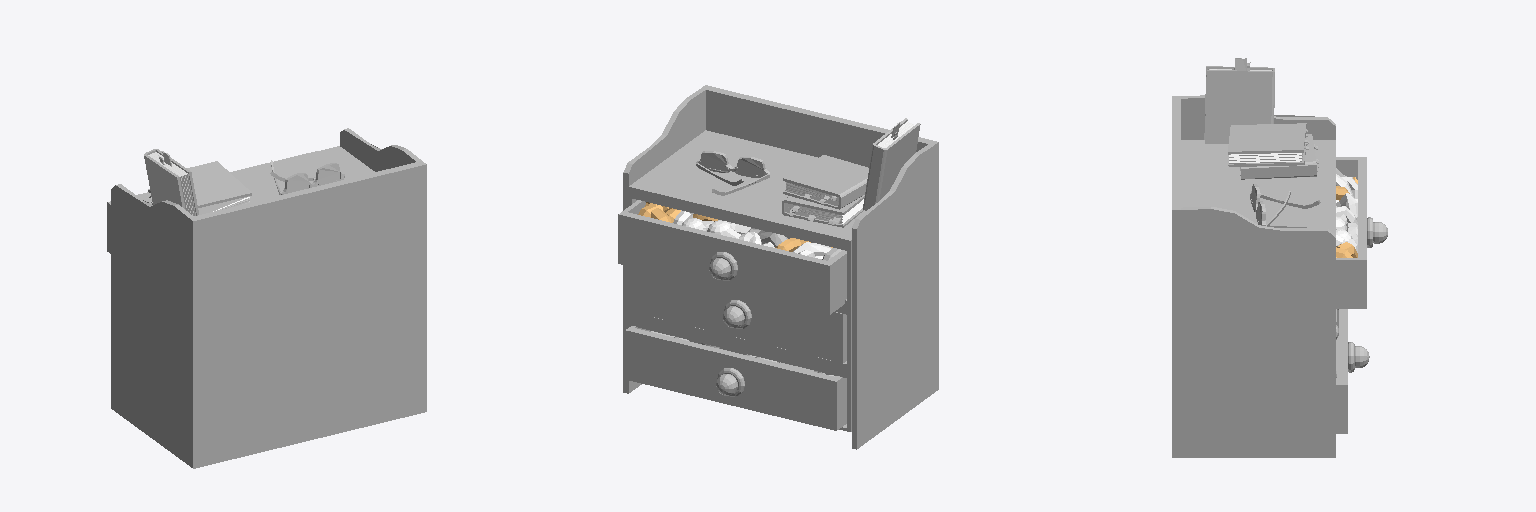
Rendered from sidetable.obj.
3 renders of one model, left to right at view 1: azimuth 30°, elevation 25°; view 2: azimuth 150°, elevation 25°; view 3: azimuth 270°, elevation 25°, orthographic.
Visible parts, largest first — view 1: group[number redacted], group[number redacted], group[number redacted], group[number redacted], group[number redacted], group[number redacted], group[number redacted]; view 2: group[number redacted], group[number redacted], group[number redacted], group[number redacted], group[number redacted], group[number redacted], group[number redacted], group[number redacted], group[number redacted], group[number redacted], group[number redacted]; view 3: group[number redacted], group[number redacted], group[number redacted], group[number redacted], group[number redacted], group[number redacted], group[number redacted], group[number redacted].
Part boxes in pixels (x1,y1,x2,y2): group[number redacted]: (189,161,426,468); group[number redacted]: (111,184,193,464); group[number redacted]: (107,146,374,253); group[number redacted]: (144,149,198,215); group[number redacted]: (148,161,251,214); group[number redacted]: (340,128,421,171); group[number redacted]: (270,160,344,194); group[number redacted]: (618,130,865,314); group[number redacted]: (852,144,933,449); group[number redacted]: (625,326,846,430); group[number redacted]: (632,267,846,362); group[number redacted]: (701,85,938,392); group[number redacted]: (782,155,868,227); group[number redacted]: (623,89,705,393); group[number redacted]: (629,315,851,431); group[number redacted]: (863,118,920,210); group[number redacted]: (696,151,769,195); group[number redacted]: (629,266,851,368); group[number redacted]: (1181,206,1335,457); group[number redacted]: (1181,140,1387,308); group[number redacted]: (1204,58,1274,143); group[number redacted]: (1228,123,1318,179); group[number redacted]: (1172,96,1180,457); group[number redacted]: (1181,95,1335,139); group[number redacted]: (1336,309,1369,433); group[number redacted]: (1250,184,1320,225).
Size of the model in its own units: 2.22 by 2.63 by 1.79.